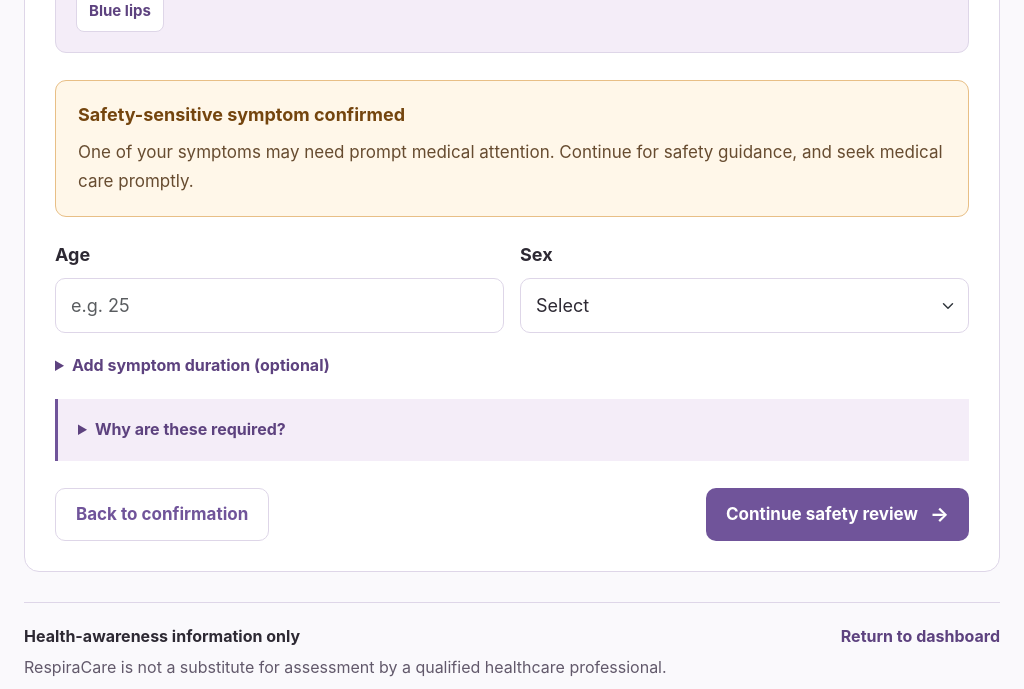
Test: candidate workflow readiness › preserves urgent guidance without showing a condition
(page scrolled)
Type "22" into the number field labelled "Age".
click(280, 306); type("22")  # box left=55, top=278, right=504, bottom=334
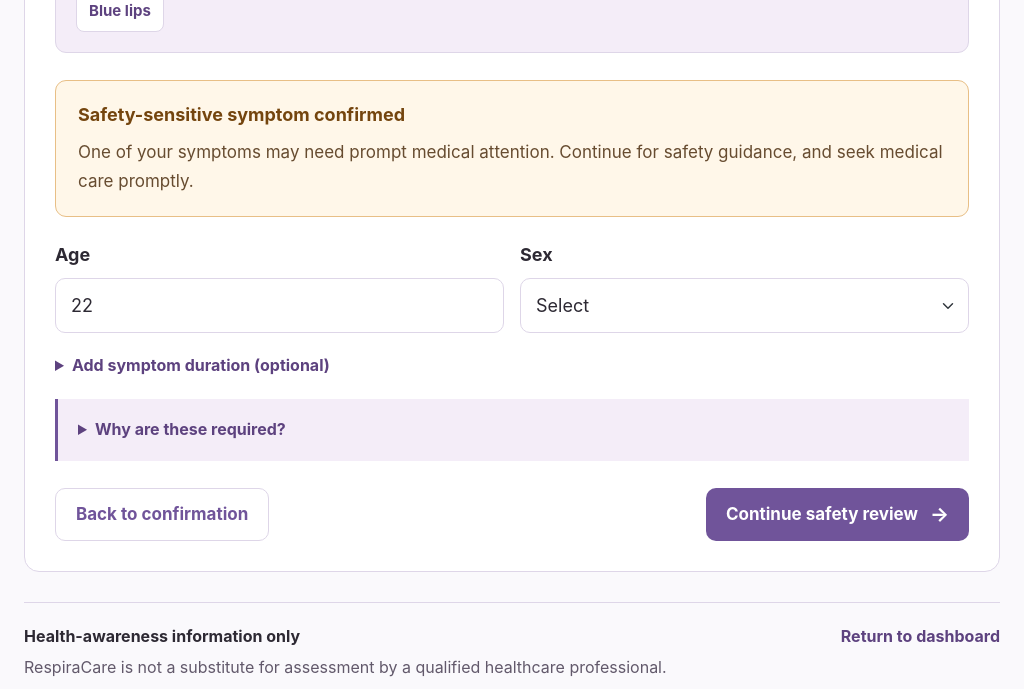
Select "Female" in the dropdown labelled "Sex" at (744, 306), box left=520, top=278, right=969, bottom=334
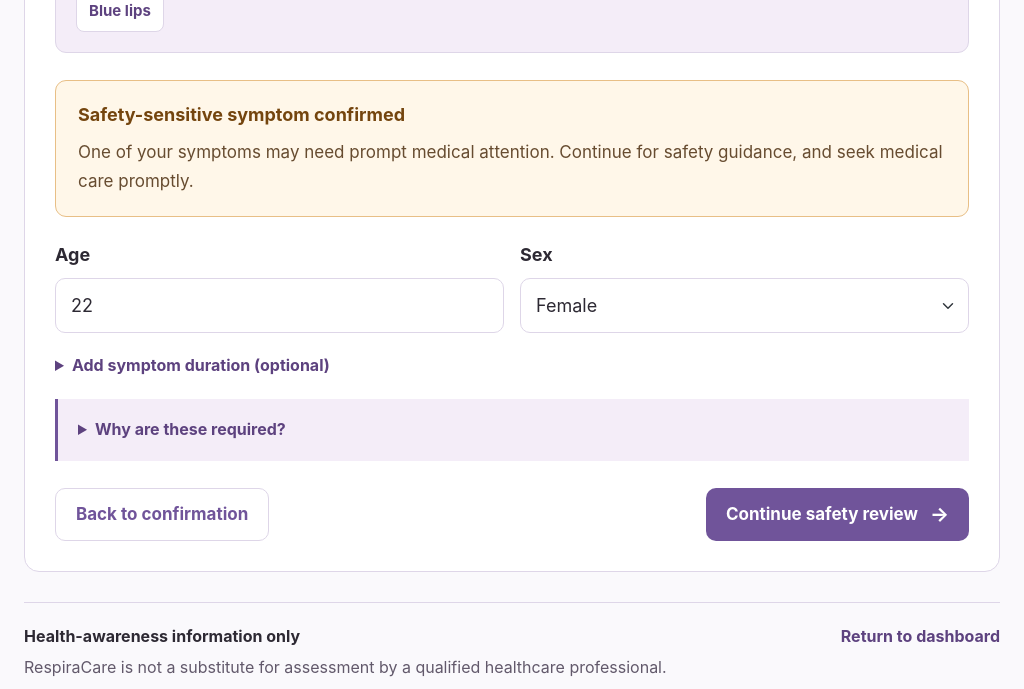
Click the button "Continue safety review →".
click(837, 514)  # box left=706, top=488, right=969, bottom=541
(page scrolled)
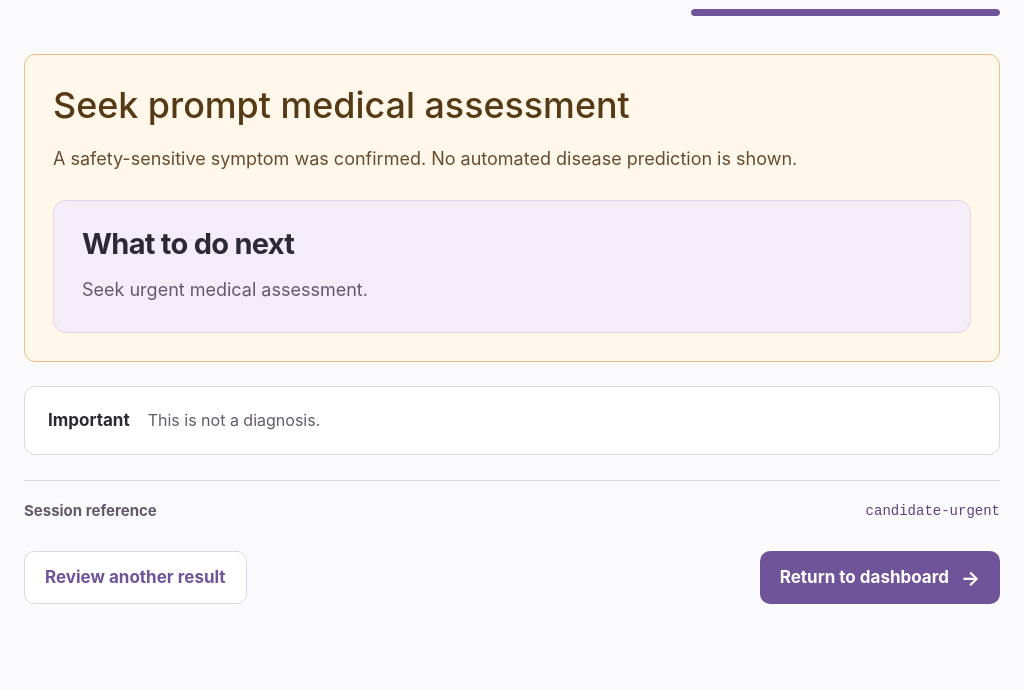
Now the heading "Seek prompt medical assessment" is shown, box left=53, top=83, right=630, bottom=127
